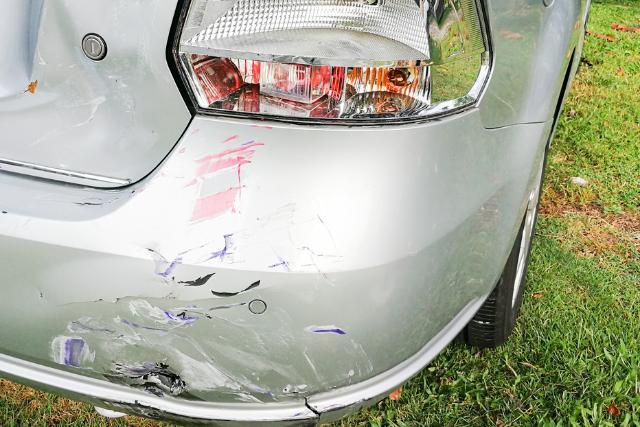Bumper: (50, 130, 420, 425)
Dickey: (5, 0, 147, 172)
Light: (180, 0, 478, 117)
